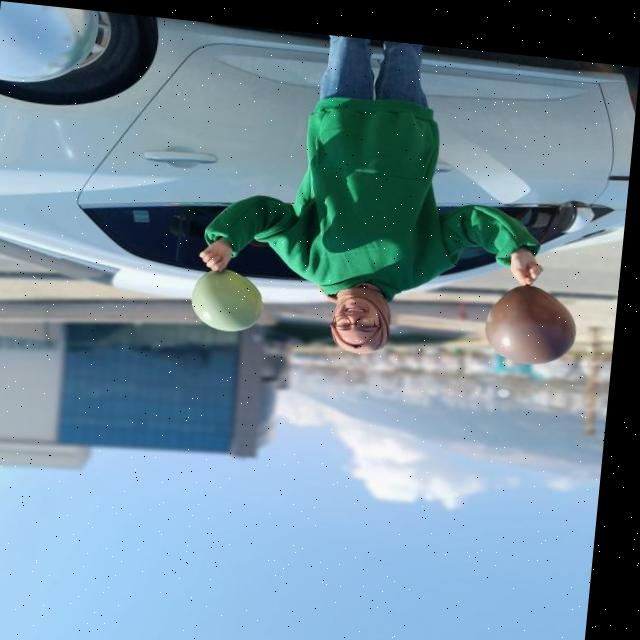balloon: (481, 268, 586, 356), (198, 263, 267, 326)
